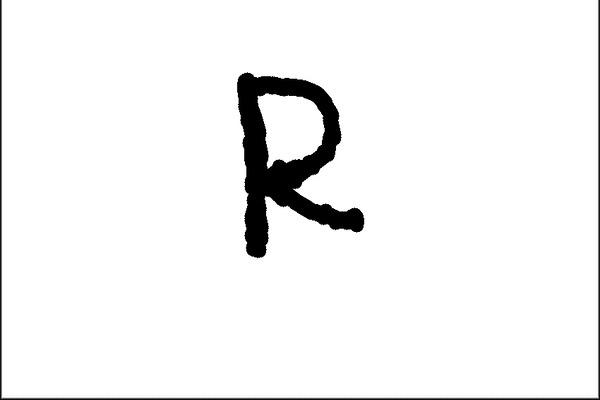R: (222, 64, 376, 267)
